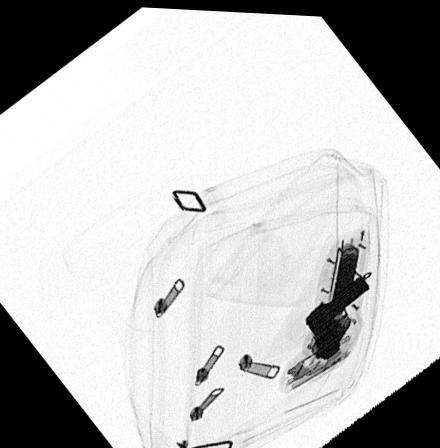Gun: (303, 269, 372, 355)
